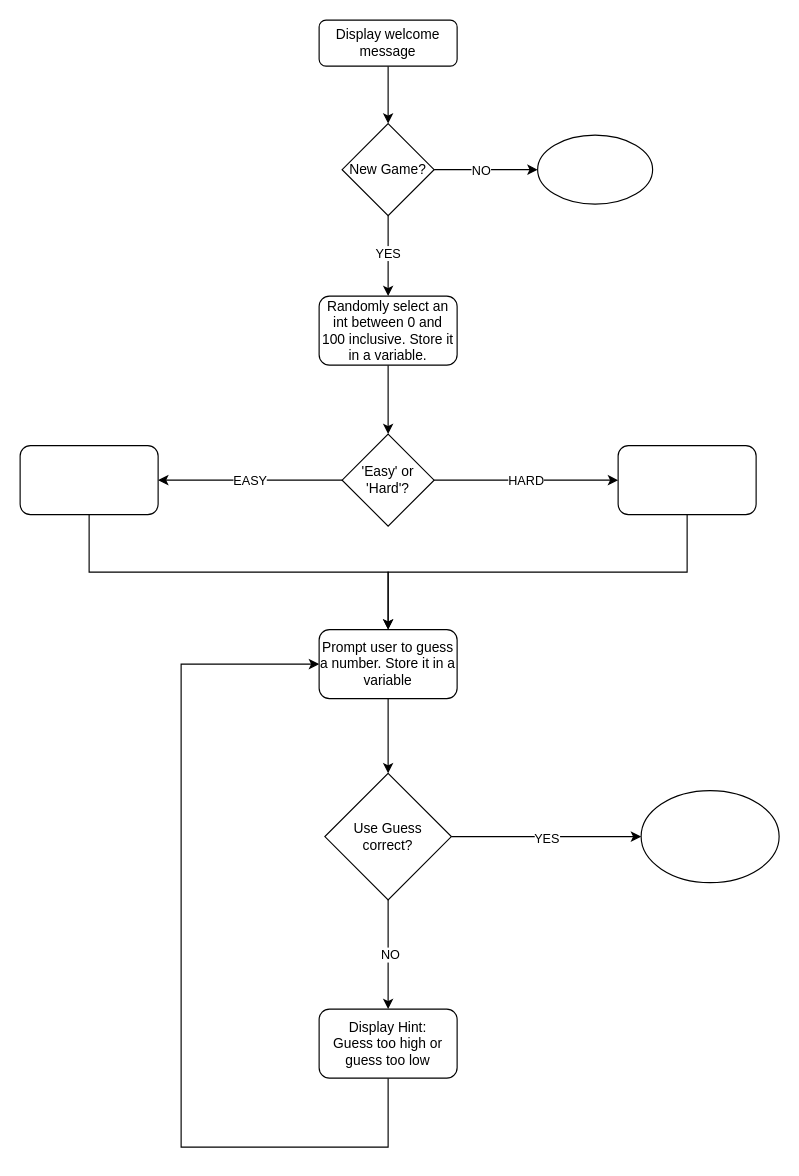
Image size: 799x1176. Some labels were removed from this diagram. The centre of each missing label's shape, as x and y in pixels:
"Game Over. User Wins." goes at point (709, 836).
"Quit game." goes at point (594, 169).
"Remaining Attempts =10" goes at point (88, 479).
"Remaining Attempts =5" goes at point (686, 479).
